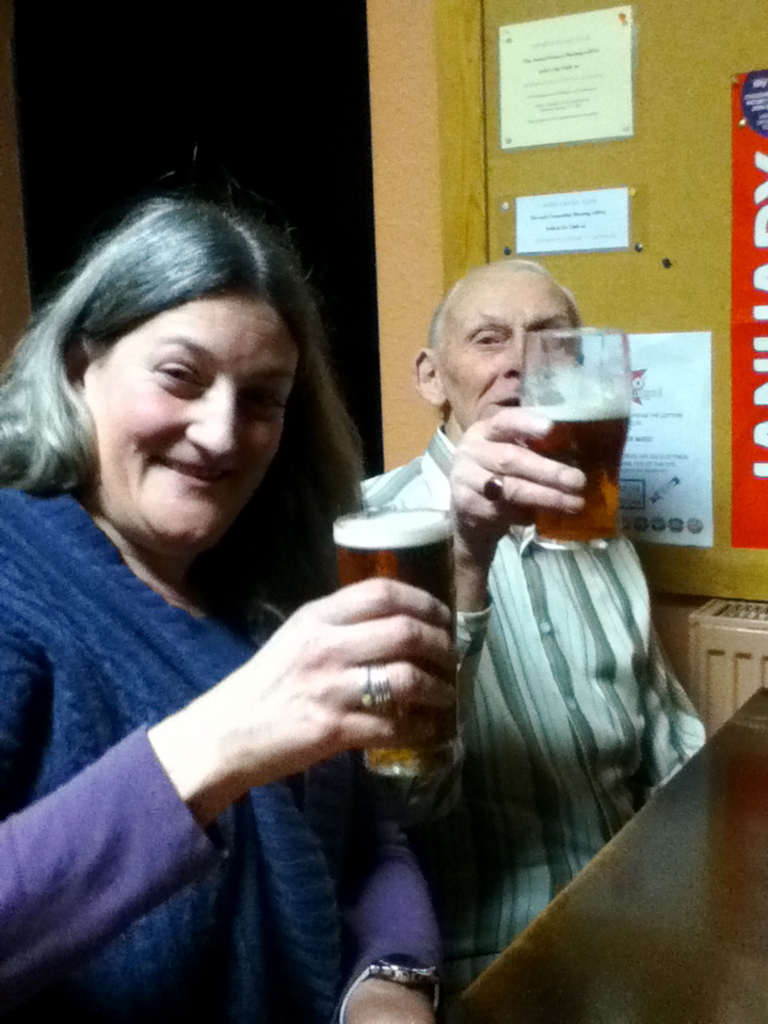Beer: (331, 503, 475, 789), (518, 330, 631, 567)
